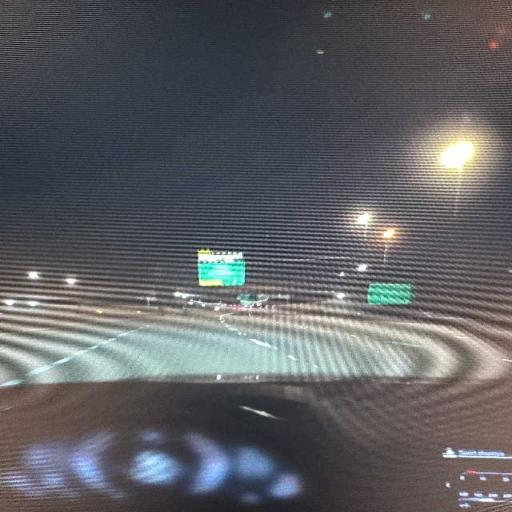lane: (0, 310, 507, 385), (224, 313, 506, 378), (28, 315, 300, 382), (0, 310, 141, 385)
